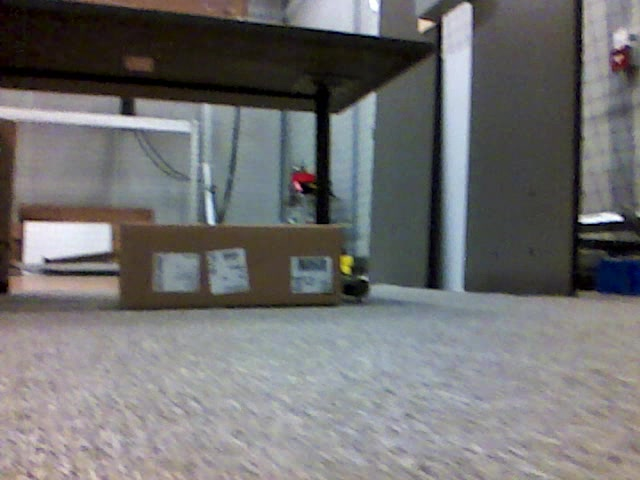box: (120, 225, 345, 307)
